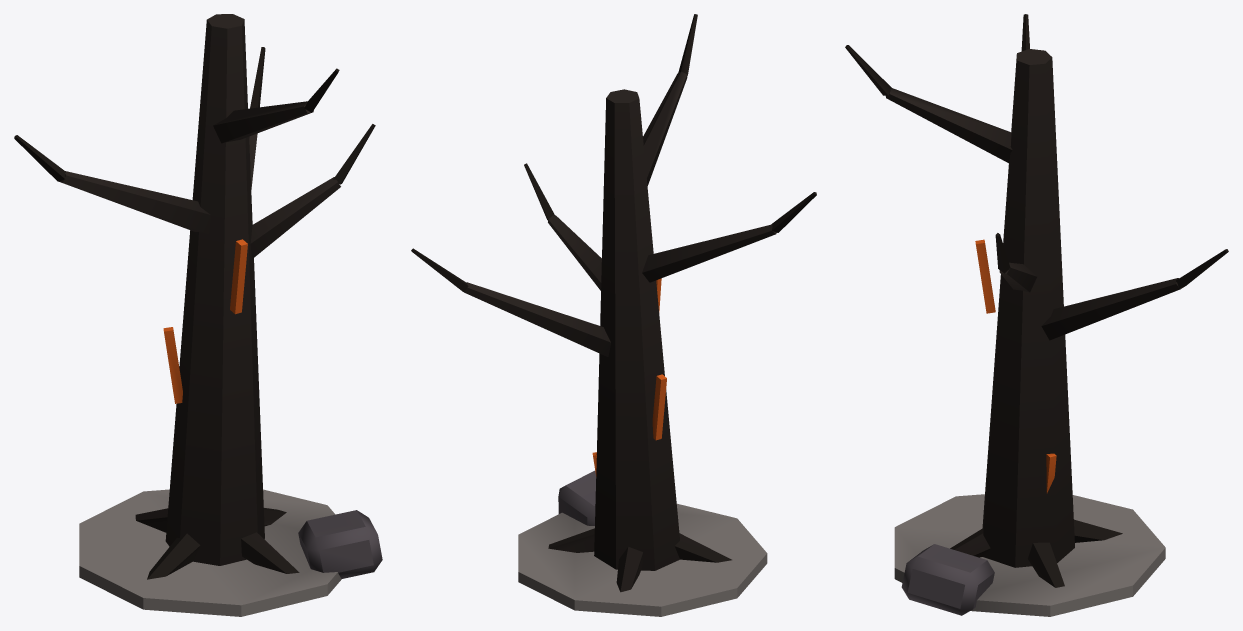
The model's file is p_tree_lava_1.glb.
3 renders of one model, left to right at view 1: azimuth 30°, elevation 25°; view 2: azimuth 150°, elevation 25°; view 3: azimuth 270°, elevation 25°, orthographic. The views are drawn at different scales.
Visible parts, largest first — view 1: body; view 2: body; view 3: body.
Part boxes in pixels (<box>): body: <box>14,14,382,616</box>; body: <box>411,14,816,616</box>; body: <box>845,14,1228,616</box>.
Bounding box in the file's own units: 2.54 × 3.81 × 2.47.
